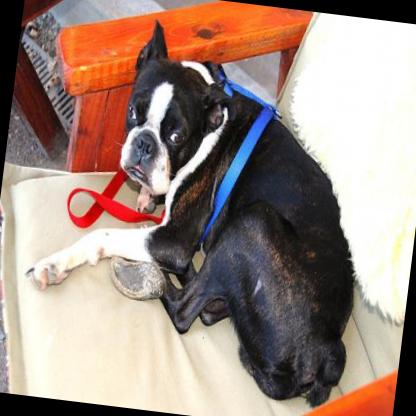pug: (12, 4, 383, 408)
